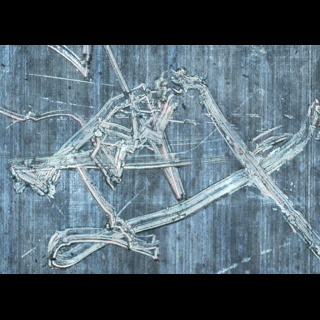d: (170, 75, 320, 246), (76, 66, 204, 196), (38, 207, 169, 270), (4, 148, 80, 203), (0, 105, 88, 140), (39, 45, 103, 87)
